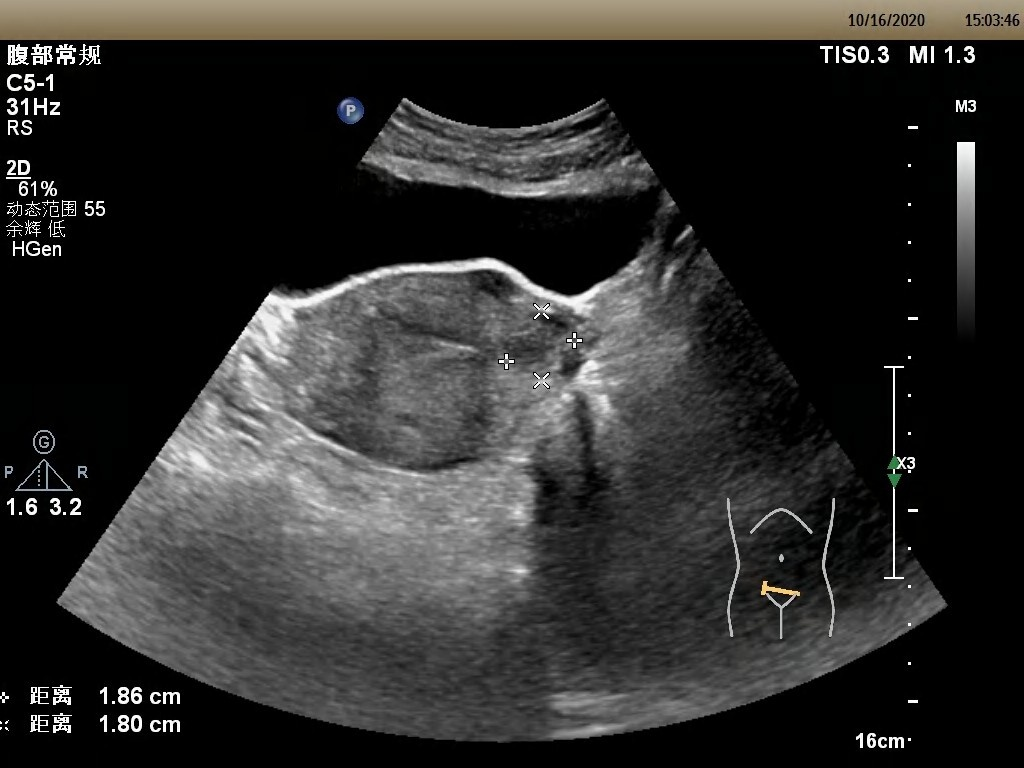肌瘤: (505, 313, 571, 371)
